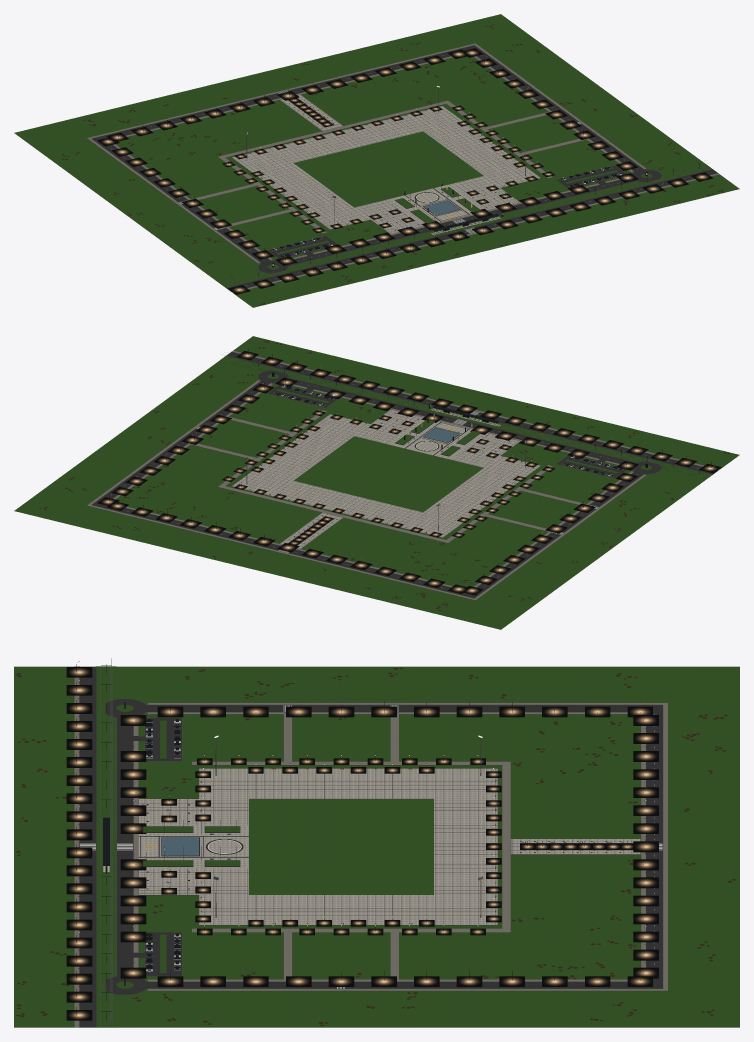
File: site.glb
3 renders of one model, top to bottom at view 1: azimuth 30°, elevation 25°; view 2: azimuth 150°, elevation 25°; view 3: azimuth 270°, elevation 25°, orthographic. The views are drawn at different scales.
Parts seen in each view (by area): view 1: ground_lawn_site, emissive_pool_site, ground_esplanade_site, ground_asphalt_site, ground_sidewalk_site, ground_band_site, ground_prestige_site, ground_mulch_site, ground_concrete_site, black_metal_site, steel_site, ground_granite_site (+1 smaller); view 2: ground_lawn_site, emissive_pool_site, ground_esplanade_site, ground_asphalt_site, ground_sidewalk_site, ground_band_site, ground_prestige_site, ground_mulch_site, black_metal_site, ground_concrete_site, steel_site, ground_granite_site; view 3: ground_lawn_site, ground_esplanade_site, emissive_pool_site, ground_asphalt_site, ground_band_site, ground_sidewalk_site, ground_prestige_site, ground_concrete_site, ground_mulch_site, steel_site, black_metal_site, ground_granite_site (+2 smaller).
Part boxes in pixels (box(x1,y1,x2,y2)): ground_lawn_site: box(14, 14, 739, 307); emissive_pool_site: box(97, 48, 713, 294); ground_esplanade_site: box(232, 95, 540, 233); ground_asphalt_site: box(92, 45, 717, 291); ground_sidewalk_site: box(87, 43, 719, 292); ground_band_site: box(87, 44, 719, 293); ground_prestige_site: box(390, 184, 481, 223); ground_mulch_site: box(62, 24, 723, 304); ground_concrete_site: box(92, 45, 711, 287); black_metal_site: box(108, 46, 702, 290); steel_site: box(221, 85, 708, 286); ground_granite_site: box(395, 187, 480, 223); ground_lawn_site: box(14, 336, 739, 629); emissive_pool_site: box(97, 351, 721, 595); ground_esplanade_site: box(232, 409, 540, 548); ground_asphalt_site: box(92, 352, 717, 598); ground_sidewalk_site: box(87, 350, 719, 600); ground_band_site: box(87, 351, 707, 600); ground_prestige_site: box(390, 420, 481, 458); ground_mulch_site: box(39, 340, 729, 610); black_metal_site: box(108, 348, 711, 583); ground_concrete_site: box(92, 352, 702, 593); steel_site: box(222, 357, 709, 531); ground_granite_site: box(395, 419, 480, 456); ground_lawn_site: box(14, 666, 739, 1027); ground_esplanade_site: box(139, 768, 640, 924); emissive_pool_site: box(66, 667, 658, 1020); ground_asphalt_site: box(80, 666, 662, 1027); ground_band_site: box(74, 666, 667, 1027); ground_sidewalk_site: box(74, 666, 667, 1027); ground_prestige_site: box(138, 825, 248, 868); ground_concrete_site: box(79, 666, 662, 1027); ground_mulch_site: box(15, 667, 735, 1026); steel_site: box(100, 658, 483, 1026); black_metal_site: box(76, 661, 646, 1019); ground_granite_site: box(138, 826, 248, 866).
Size of the model in its own units: 600 by 31.6 by 510.
23 materials, 13 textured.
